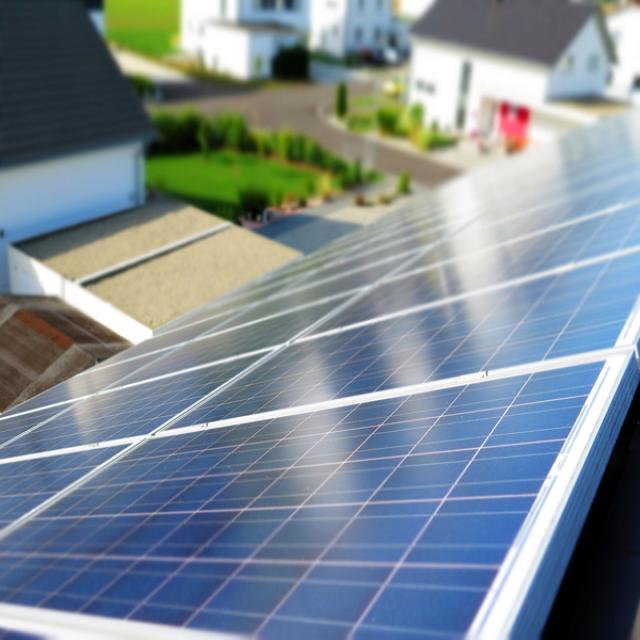clean-solar-panel: (1, 116, 640, 637)
